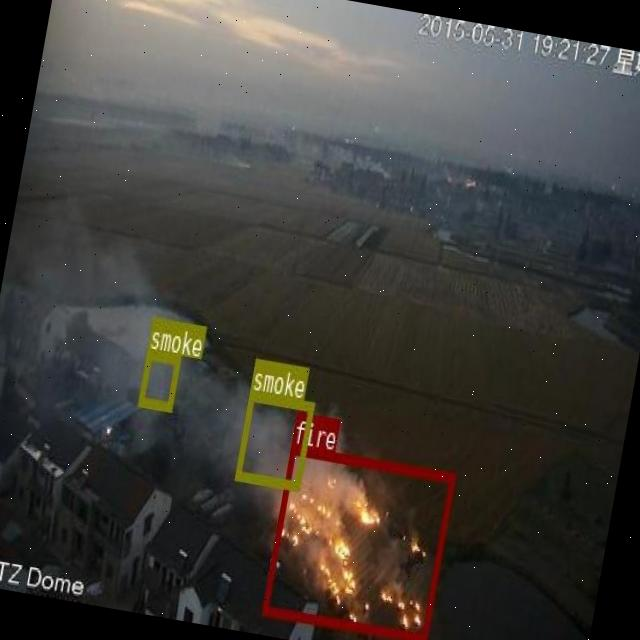fire: (260, 444, 454, 640)
smoke: (233, 389, 314, 489), (138, 350, 180, 410)
